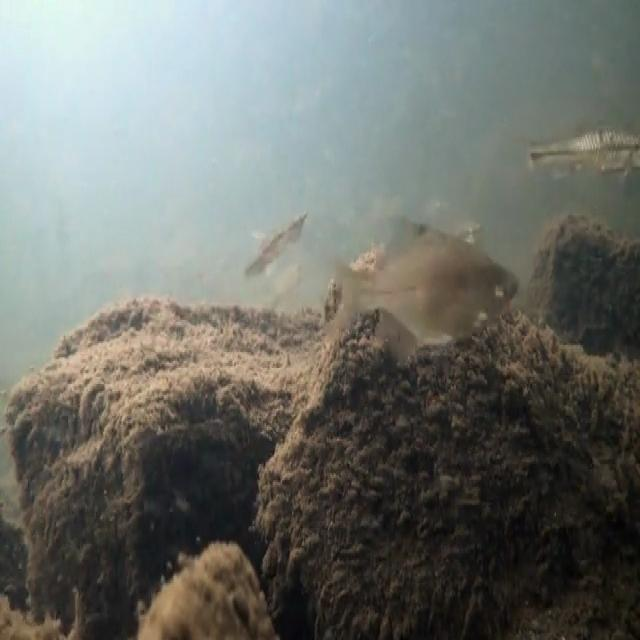Cakil Baligi: (313, 214, 521, 366)
